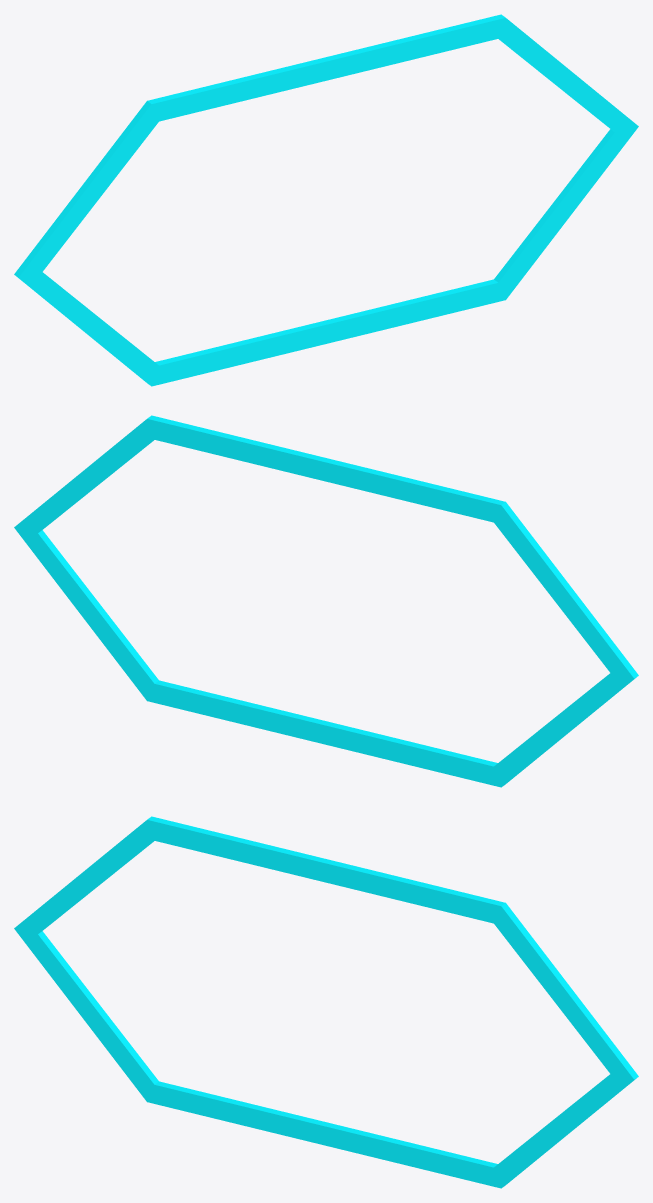
The model's file is SM_Hud_Reticle_09.glb.
3 renders of one model, top to bottom at view 1: azimuth 30°, elevation 25°; view 2: azimuth 150°, elevation 25°; view 3: azimuth 330°, elevation 25°, orthographic.
Parts seen in each view (by area): view 1: SM_Hud_Reticle_09; view 2: SM_Hud_Reticle_09; view 3: SM_Hud_Reticle_09.
Part boxes in pixels (x1,y1,x2,y2): SM_Hud_Reticle_09: (14, 14, 638, 386); SM_Hud_Reticle_09: (14, 415, 638, 787); SM_Hud_Reticle_09: (14, 816, 638, 1188).
Bounding box in the file's own units: 0.9612 × 0.418 × 0.0124.
